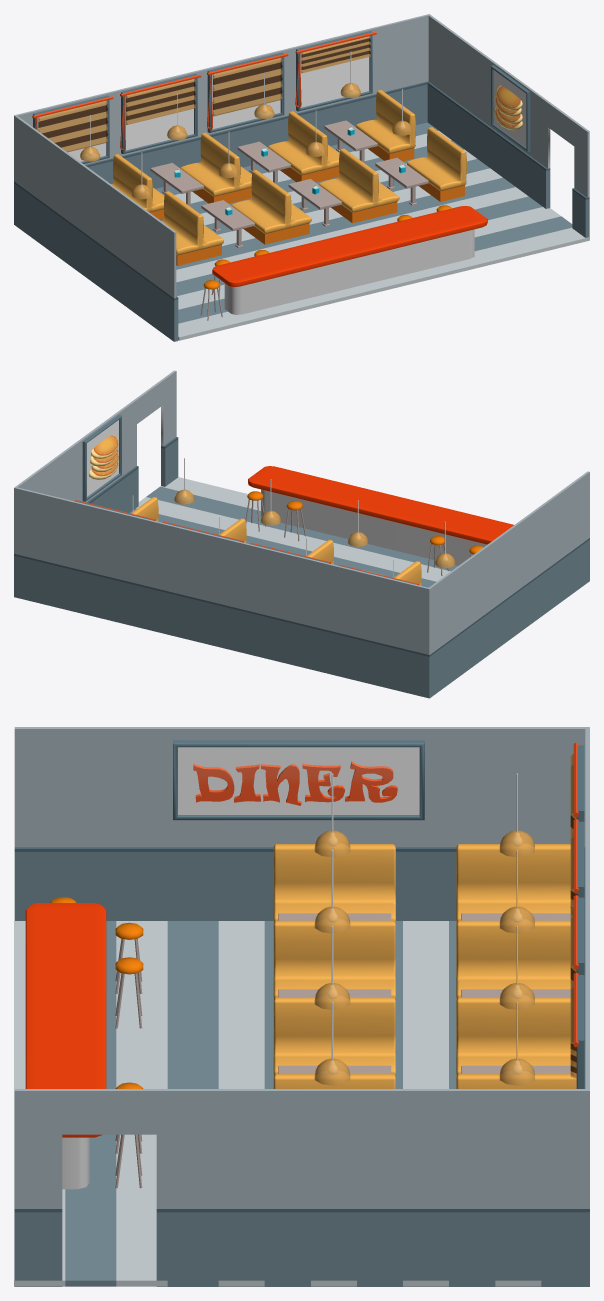
The model's file is 2_simple_diner.fbx.
3 renders of one model, top to bottom at view 1: azimuth 30°, elevation 25°; view 2: azimuth 150°, elevation 25°; view 3: azimuth 270°, elevation 25°, orthographic. The views are drawn at different scales.
Visible parts, largest first — view 1: walls, floor, counter, window2, window3, window1, window4, double_chair3, double_chair4, double_chair, double_chair1, single_chair2 (+10 smaller); view 2: walls, counter, floor, pancake_painting; view 3: walls, floor, diner_painting, counter, single_chair3, double_chair5, double_chair4, single_chair1, double_chair2, double_chair1, double_chair3, double_chair (+18 smaller).
Part boxes in pixels (x1,y1,x2,y2): walls: (14,14,589,341); floor: (155,122,589,340); counter: (212,206,487,314); window2: (207,52,288,132); window3: (120,73,201,154); window1: (295,31,376,111); window4: (32,95,113,163); double_chair3: (319,148,399,223); double_chair4: (231,170,311,244); double_chair: (268,111,339,182); double_chair1: (180,132,252,203); single_chair2: (407,127,466,201); walls: (14,370,589,698); counter: (248,466,513,565); floor: (130,477,457,587); pancake_painting: (82,415,121,501); walls: (14,727,589,1286); floor: (14,921,587,1286); diner_painting: (173,740,424,820); counter: (25,903,106,1189); single_chair3: (273,844,395,922); double_chair5: (273,920,395,998); double_chair4: (273,997,395,1075); single_chair1: (456,844,570,922); double_chair2: (456,920,570,999); double_chair1: (456,997,570,1075); double_chair3: (273,1074,395,1088); double_chair: (456,1074,576,1088).
Bounding box in the file's own units: 45.32 × 11.51 × 30.31.
Materials: 5 (3 with a texture image).
